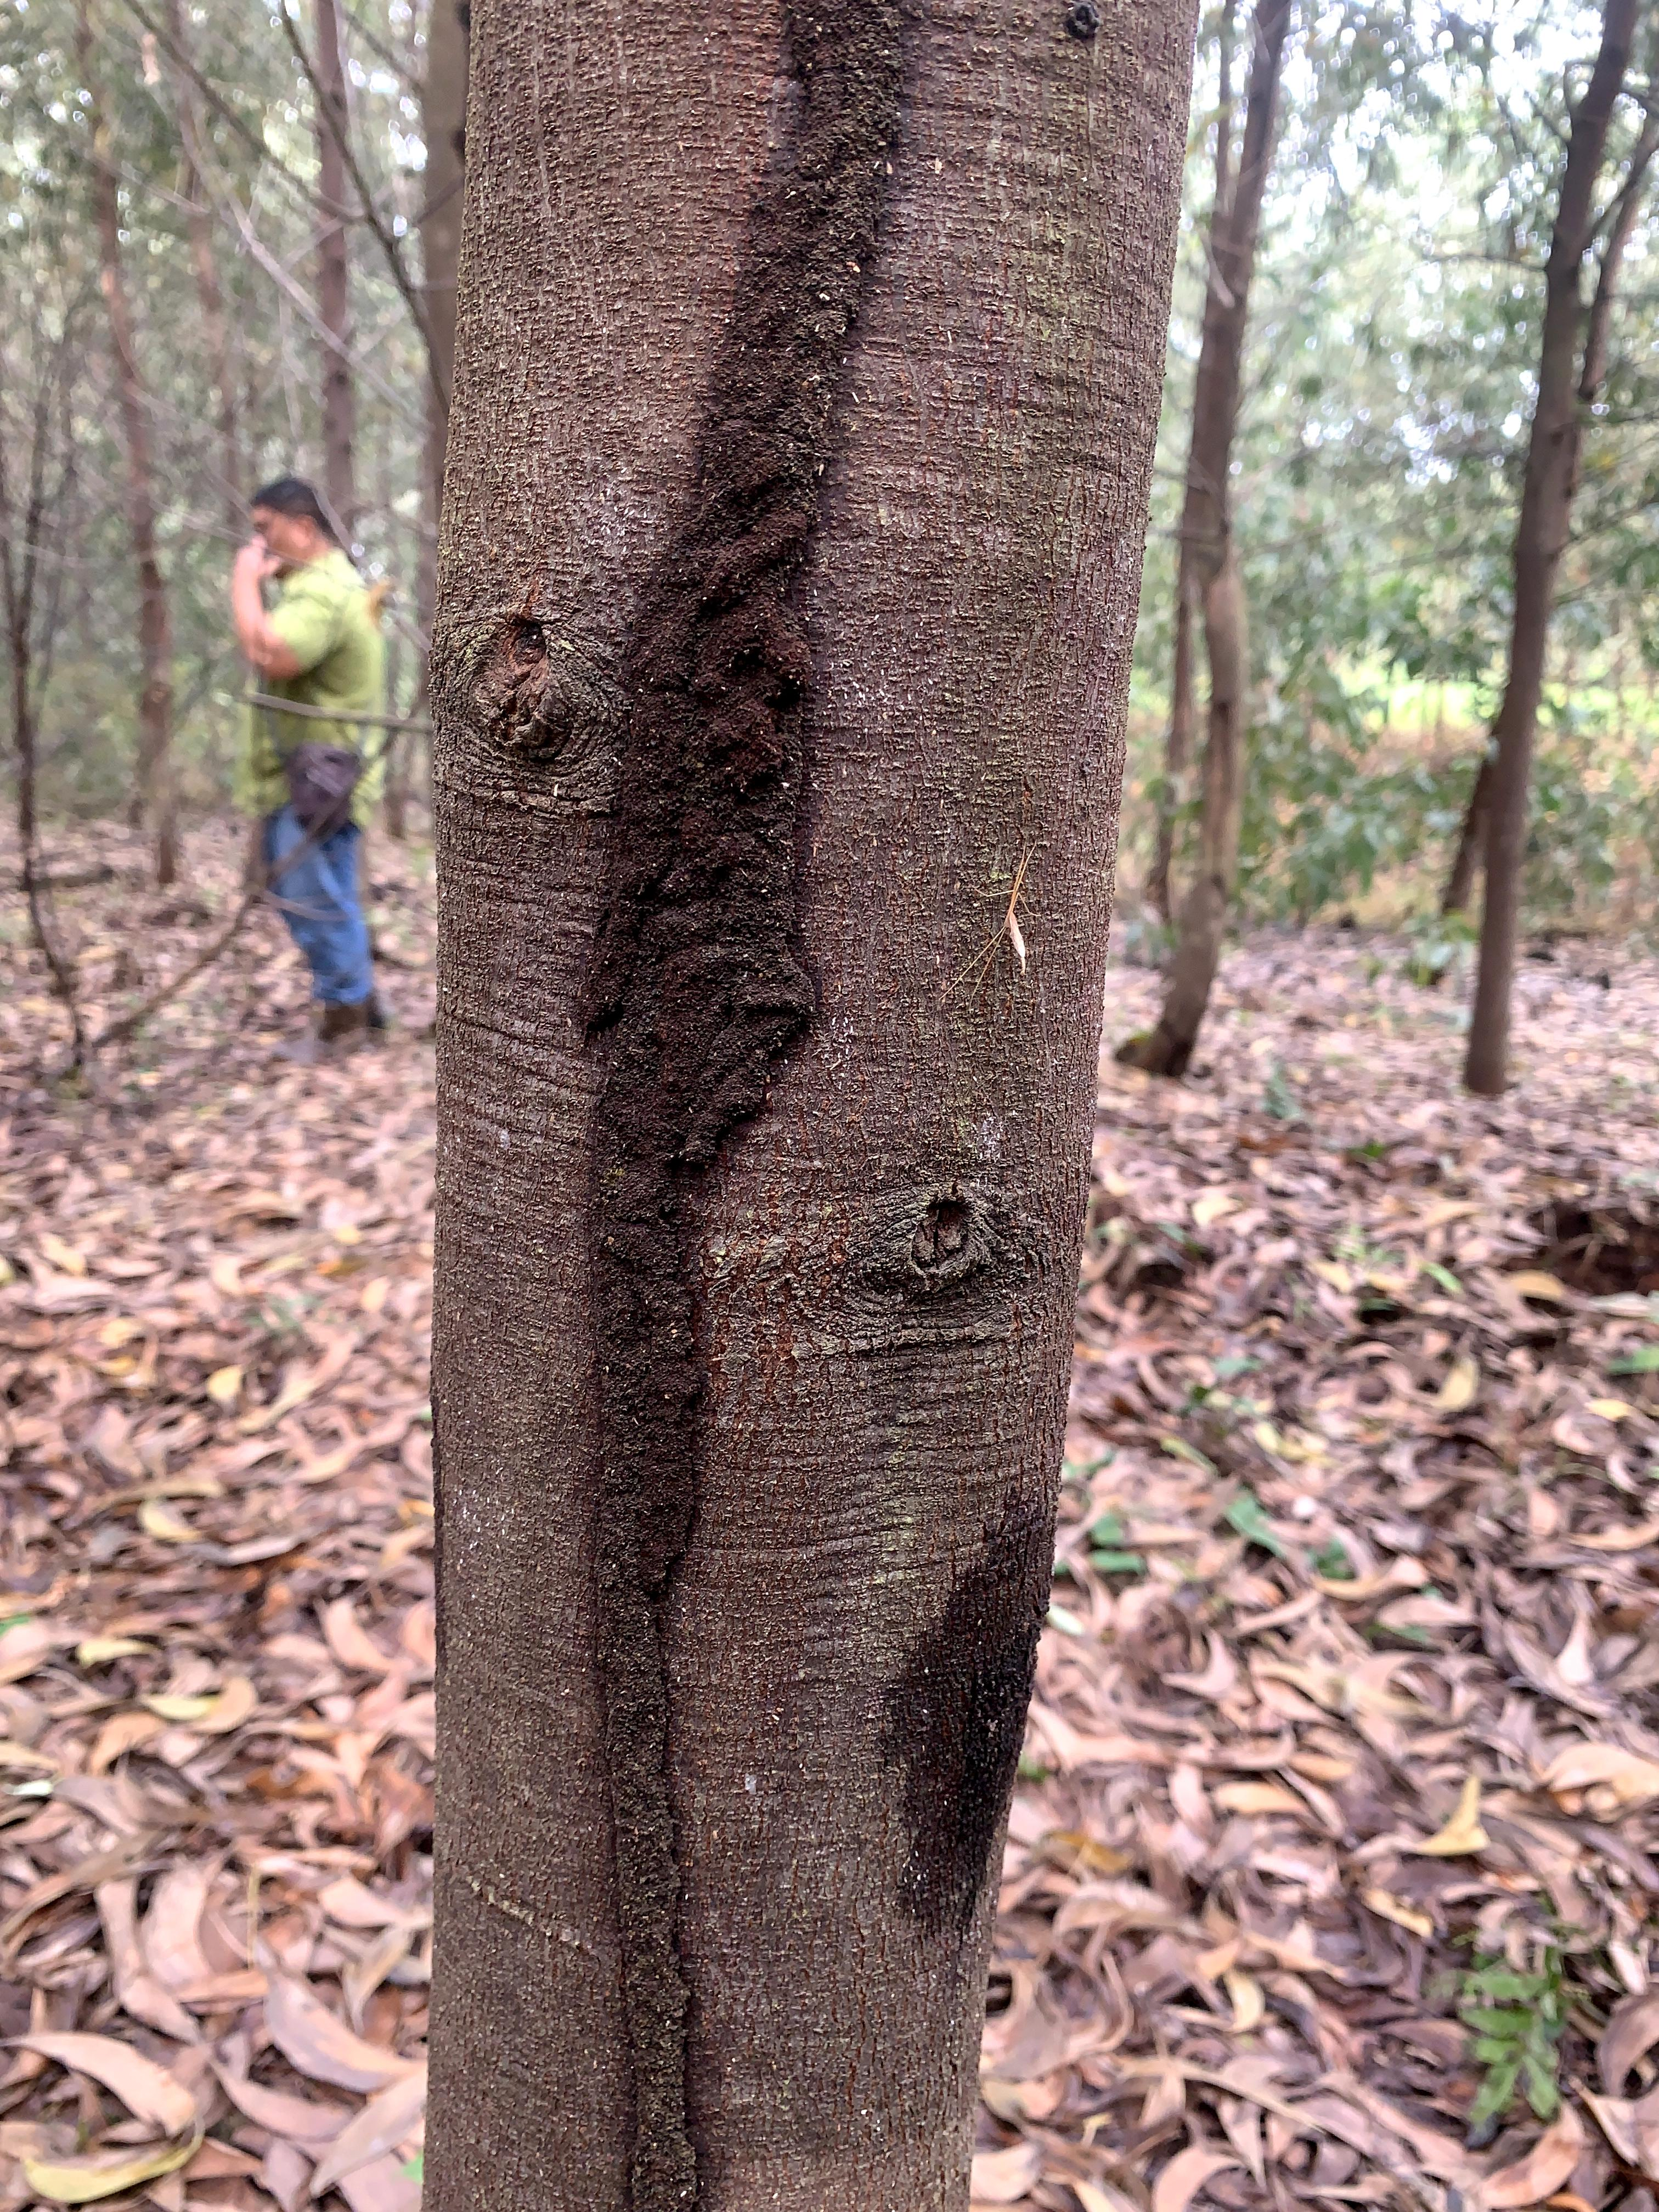Termite - Nest: (582, 0, 924, 2212)
